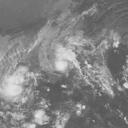cyclone: (49, 42, 78, 74), (3, 72, 31, 103)
